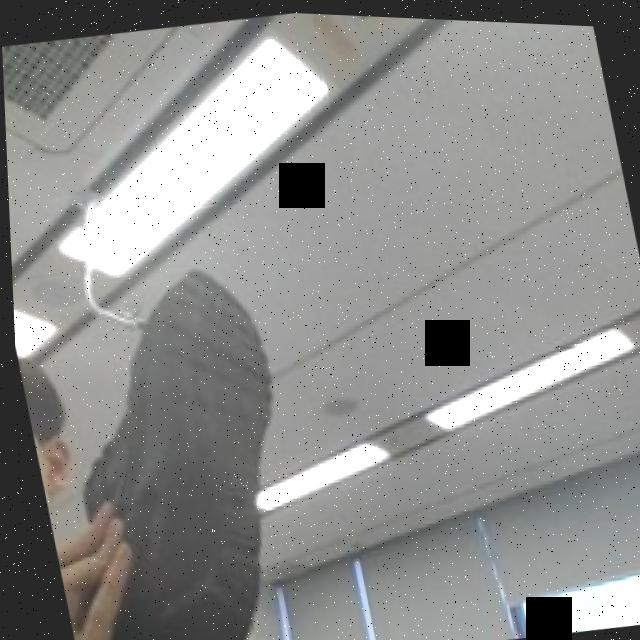shoes: (23, 252, 321, 640)
